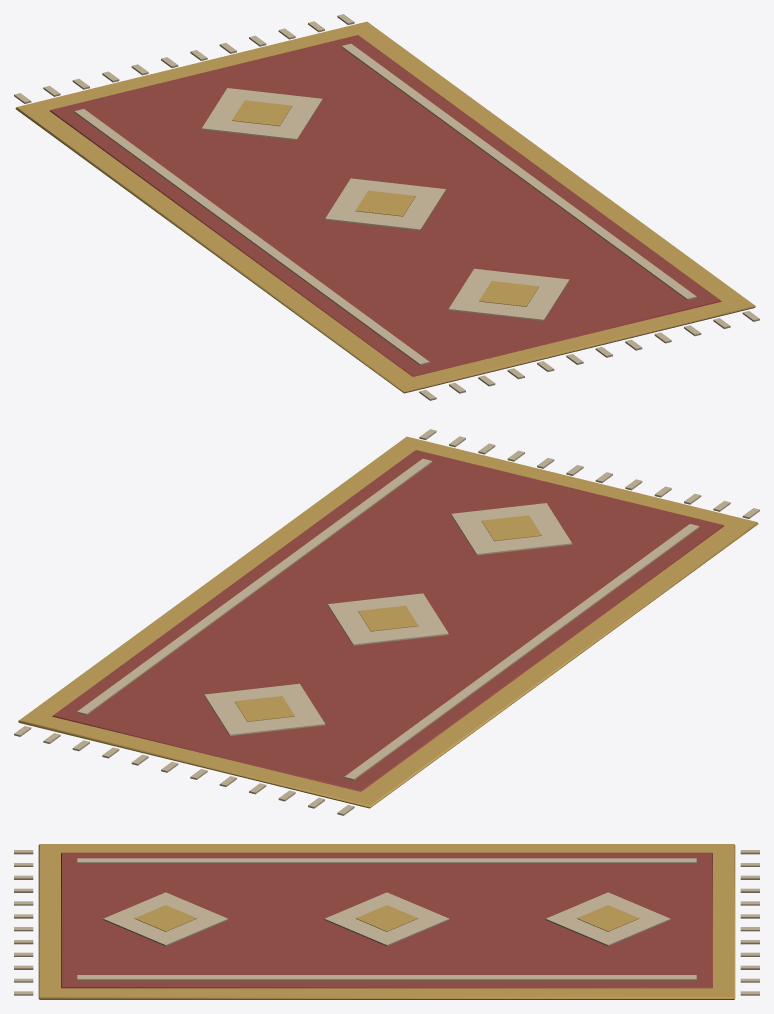
The model's file is LobbyRug.fbx.
The picture shows the model from 3 angles, top to bottom: view 1: azimuth 30°, elevation 25°; view 2: azimuth 150°, elevation 25°; view 3: azimuth 270°, elevation 25°; orthographic projection. The views are drawn at different scales.
Parts seen in each view (by area): view 1: SM_Prop_LobbyRug; view 2: SM_Prop_LobbyRug; view 3: SM_Prop_LobbyRug.
Part boxes in pixels (x1=…): SM_Prop_LobbyRug: x1=14, y1=14, x2=759, y2=400; SM_Prop_LobbyRug: x1=14, y1=429, x2=759, y2=815; SM_Prop_LobbyRug: x1=14, y1=844, x2=759, y2=999.
Size of the model in its own units: 6.6 by 0.1 by 13.49.
